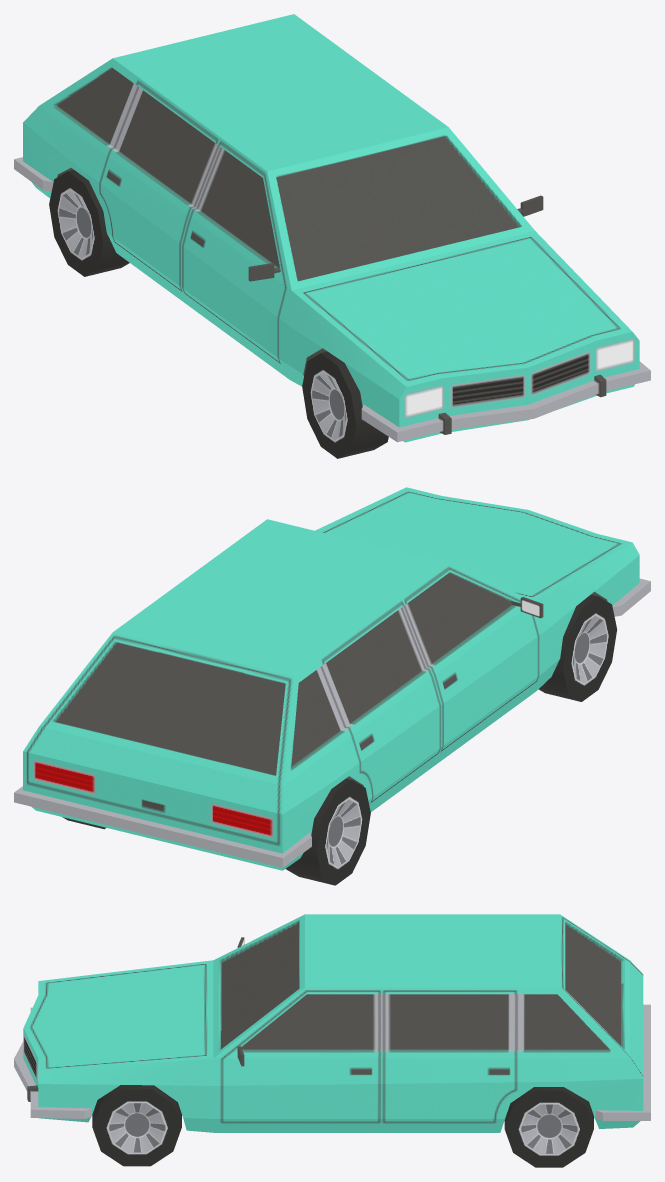
Rendered from Car4.glb.
3 views of the same model, one above another, from view 1: azimuth 30°, elevation 25°; view 2: azimuth 150°, elevation 25°; view 3: azimuth 270°, elevation 25° (orthographic). The views are drawn at different scales.
Visible parts, largest first — view 1: Object010; view 2: Object010; view 3: Object010.
Boxes of the visible parts, x1=… form: Object010: x1=14, y1=14, x2=650, y2=458; Object010: x1=14, y1=487, x2=650, y2=885; Object010: x1=14, y1=914, x2=650, y2=1167.
Bounding box in the file's own units: 1.01 × 0.6466 × 2.29.
1 material, 1 textured.
